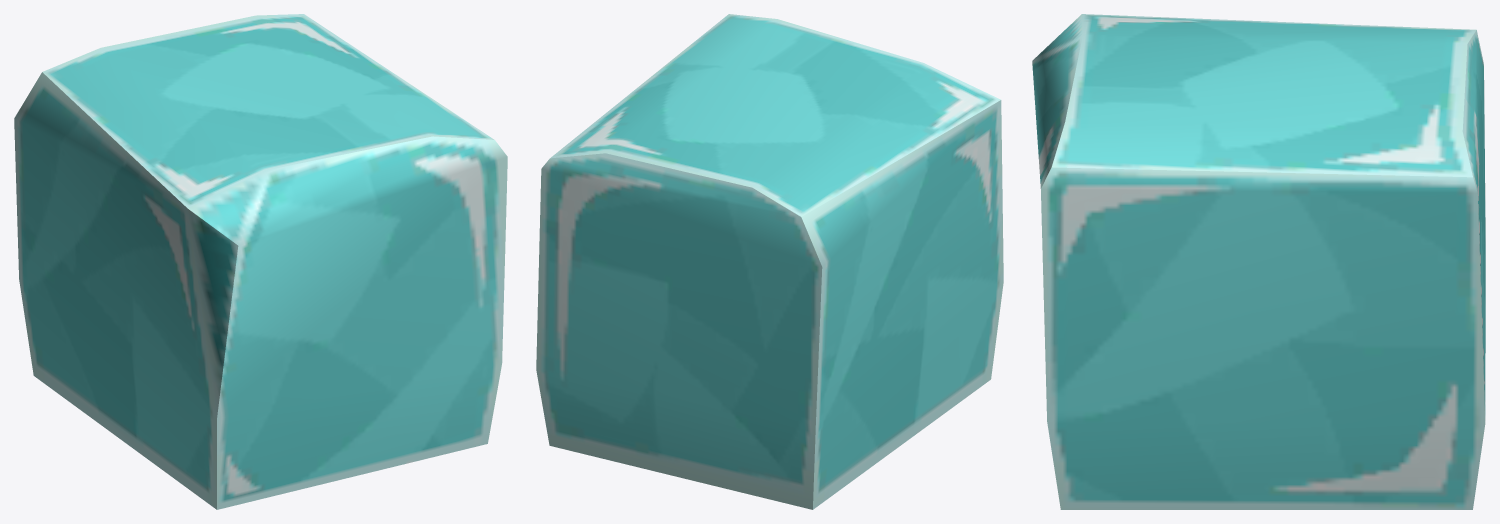
Rendered from freeze.glb.
The picture shows the model from 3 angles, left to right: view 1: azimuth 30°, elevation 25°; view 2: azimuth 150°, elevation 25°; view 3: azimuth 270°, elevation 25°; orthographic projection. The views are drawn at different scales.
Visible parts, largest first — view 1: VFX_IceCubeSmall; view 2: VFX_IceCubeSmall; view 3: VFX_IceCubeSmall.
Part boxes in pixels (left/top/right/bottom): VFX_IceCubeSmall: left=14, top=14, right=507, bottom=509; VFX_IceCubeSmall: left=536, top=14, right=1003, bottom=509; VFX_IceCubeSmall: left=1032, top=14, right=1485, bottom=509.
Bounding box in the file's own units: 0.00574 × 0.0058 × 0.00665.
Materials: 1 (1 with a texture image).
